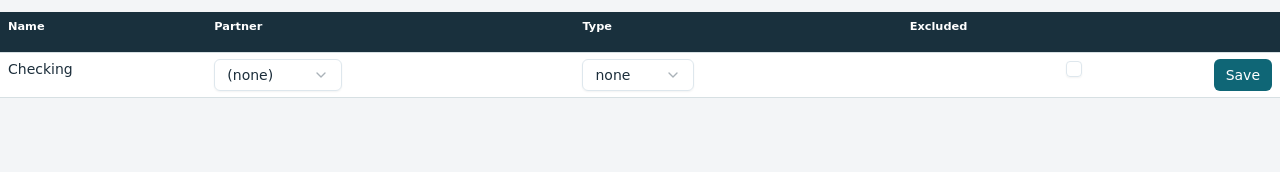
Test: AccountTable — per-row save › save error → error alert shown
Expected: the text "Checking" is shown, top-left (0, 52), bottom-right (206, 97)
Click the button "Save" at (1243, 74), box top-left (1214, 58), bottom-right (1272, 90)
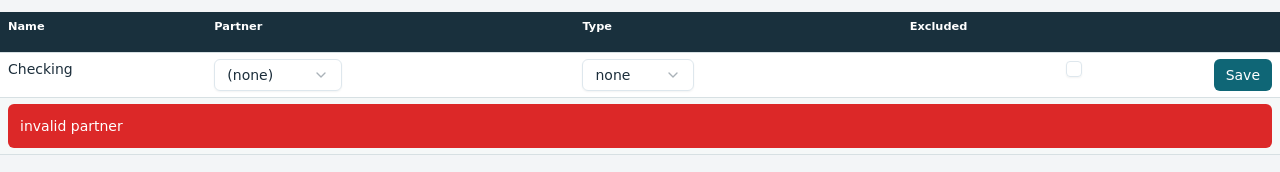
Now the message reads "invalid partner", box top-left (20, 118), bottom-right (123, 134)
